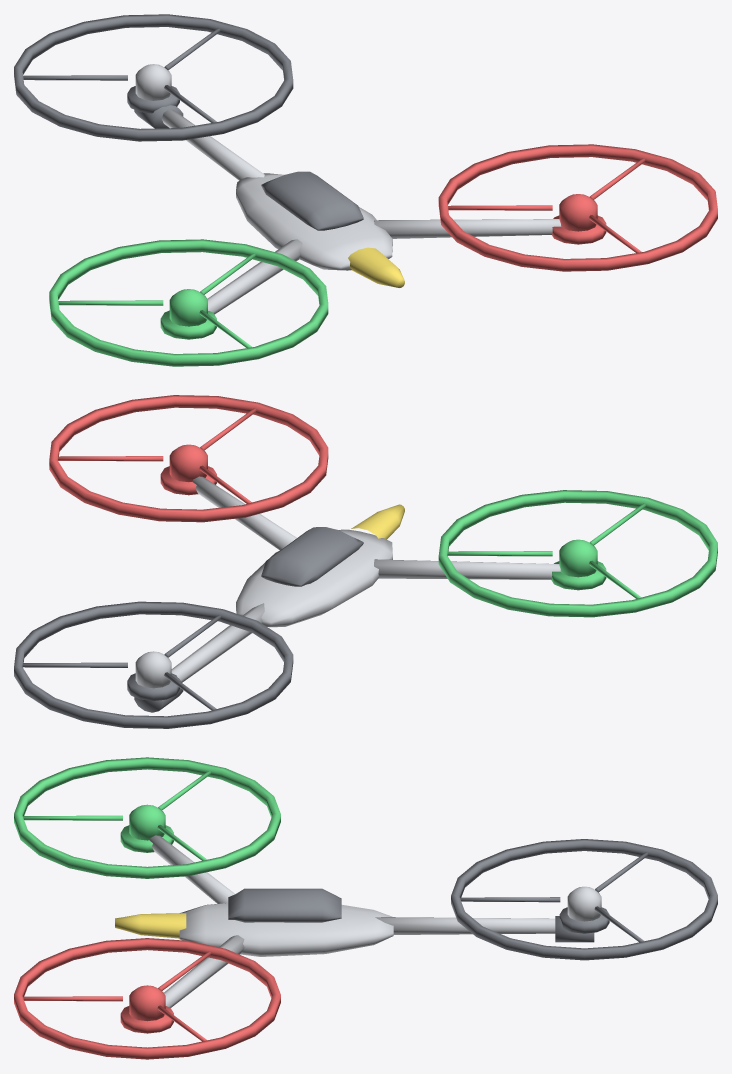
Rendered from uav-tricopter.glb.
The picture shows the model from 3 angles, top to bottom: view 1: azimuth 30°, elevation 25°; view 2: azimuth 150°, elevation 25°; view 3: azimuth 270°, elevation 25°; orthographic projection. The views are drawn at different scales.
Visible parts, largest first — view 1: part1, part2, part0, part3, part4; view 2: part1, part2, part0, part3, part4; view 3: part1, part2, part3, part0, part4.
Boxes of the visible parts, x1,y1,x2,y2 form: part1: (14,14,363,230); part2: (135,64,561,314); part0: (49,239,328,366); part3: (438,144,717,271); part4: (348,247,404,287); part1: (14,527,363,728); part2: (135,476,560,688); part0: (438,490,717,617); part3: (49,395,328,522); part4: (351,504,404,539); part1: (228,839,717,960); part2: (149,835,601,1007); part3: (14,938,280,1059); part0: (14,757,280,878); part4: (115,913,186,938).
Size of the model in its own units: 1.23 by 0.113 by 1.24.
